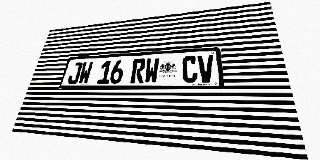1: (97, 60, 113, 84)
6: (109, 60, 125, 84)
C: (182, 56, 198, 83)
J: (67, 62, 83, 84)
R: (130, 58, 146, 83)
V: (198, 55, 215, 83)
W: (144, 58, 159, 83), (77, 61, 93, 84)
